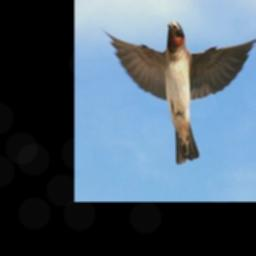Swallow: (100, 20, 256, 165)
